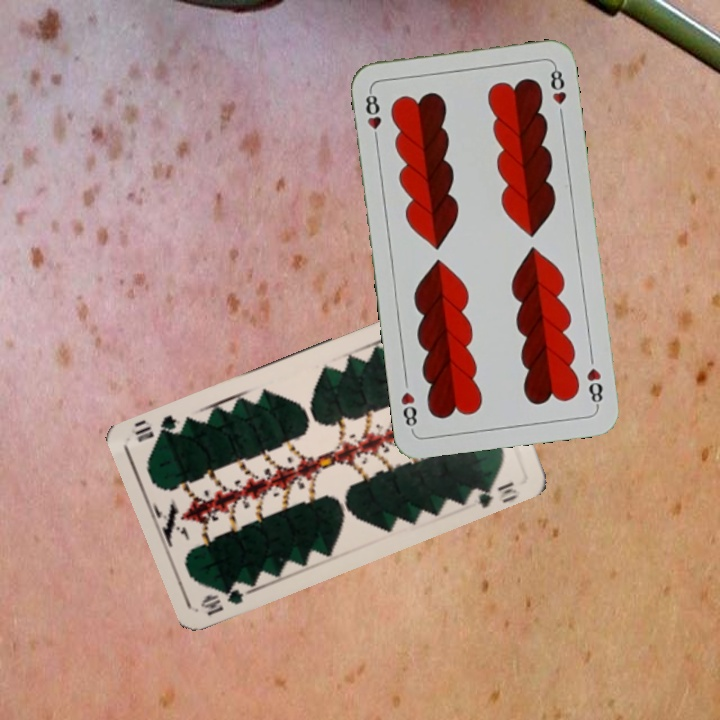G10: (196, 578, 255, 619)
H8: (362, 86, 384, 145), (582, 364, 605, 410)
